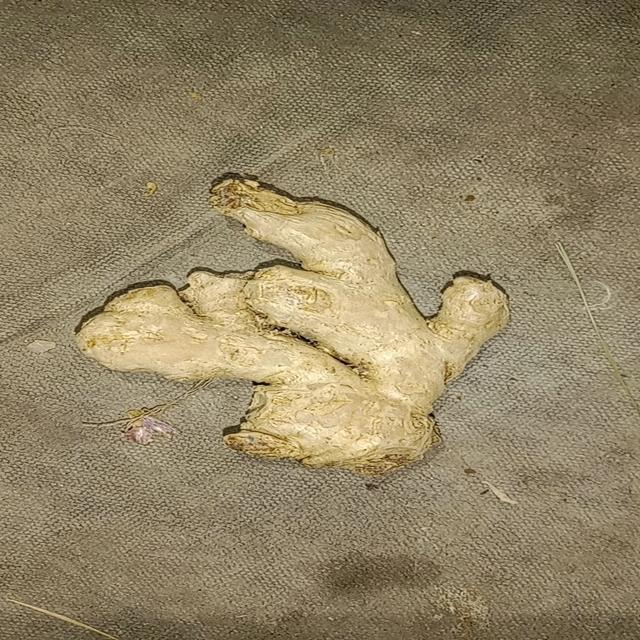ginger: (78, 174, 507, 484)
